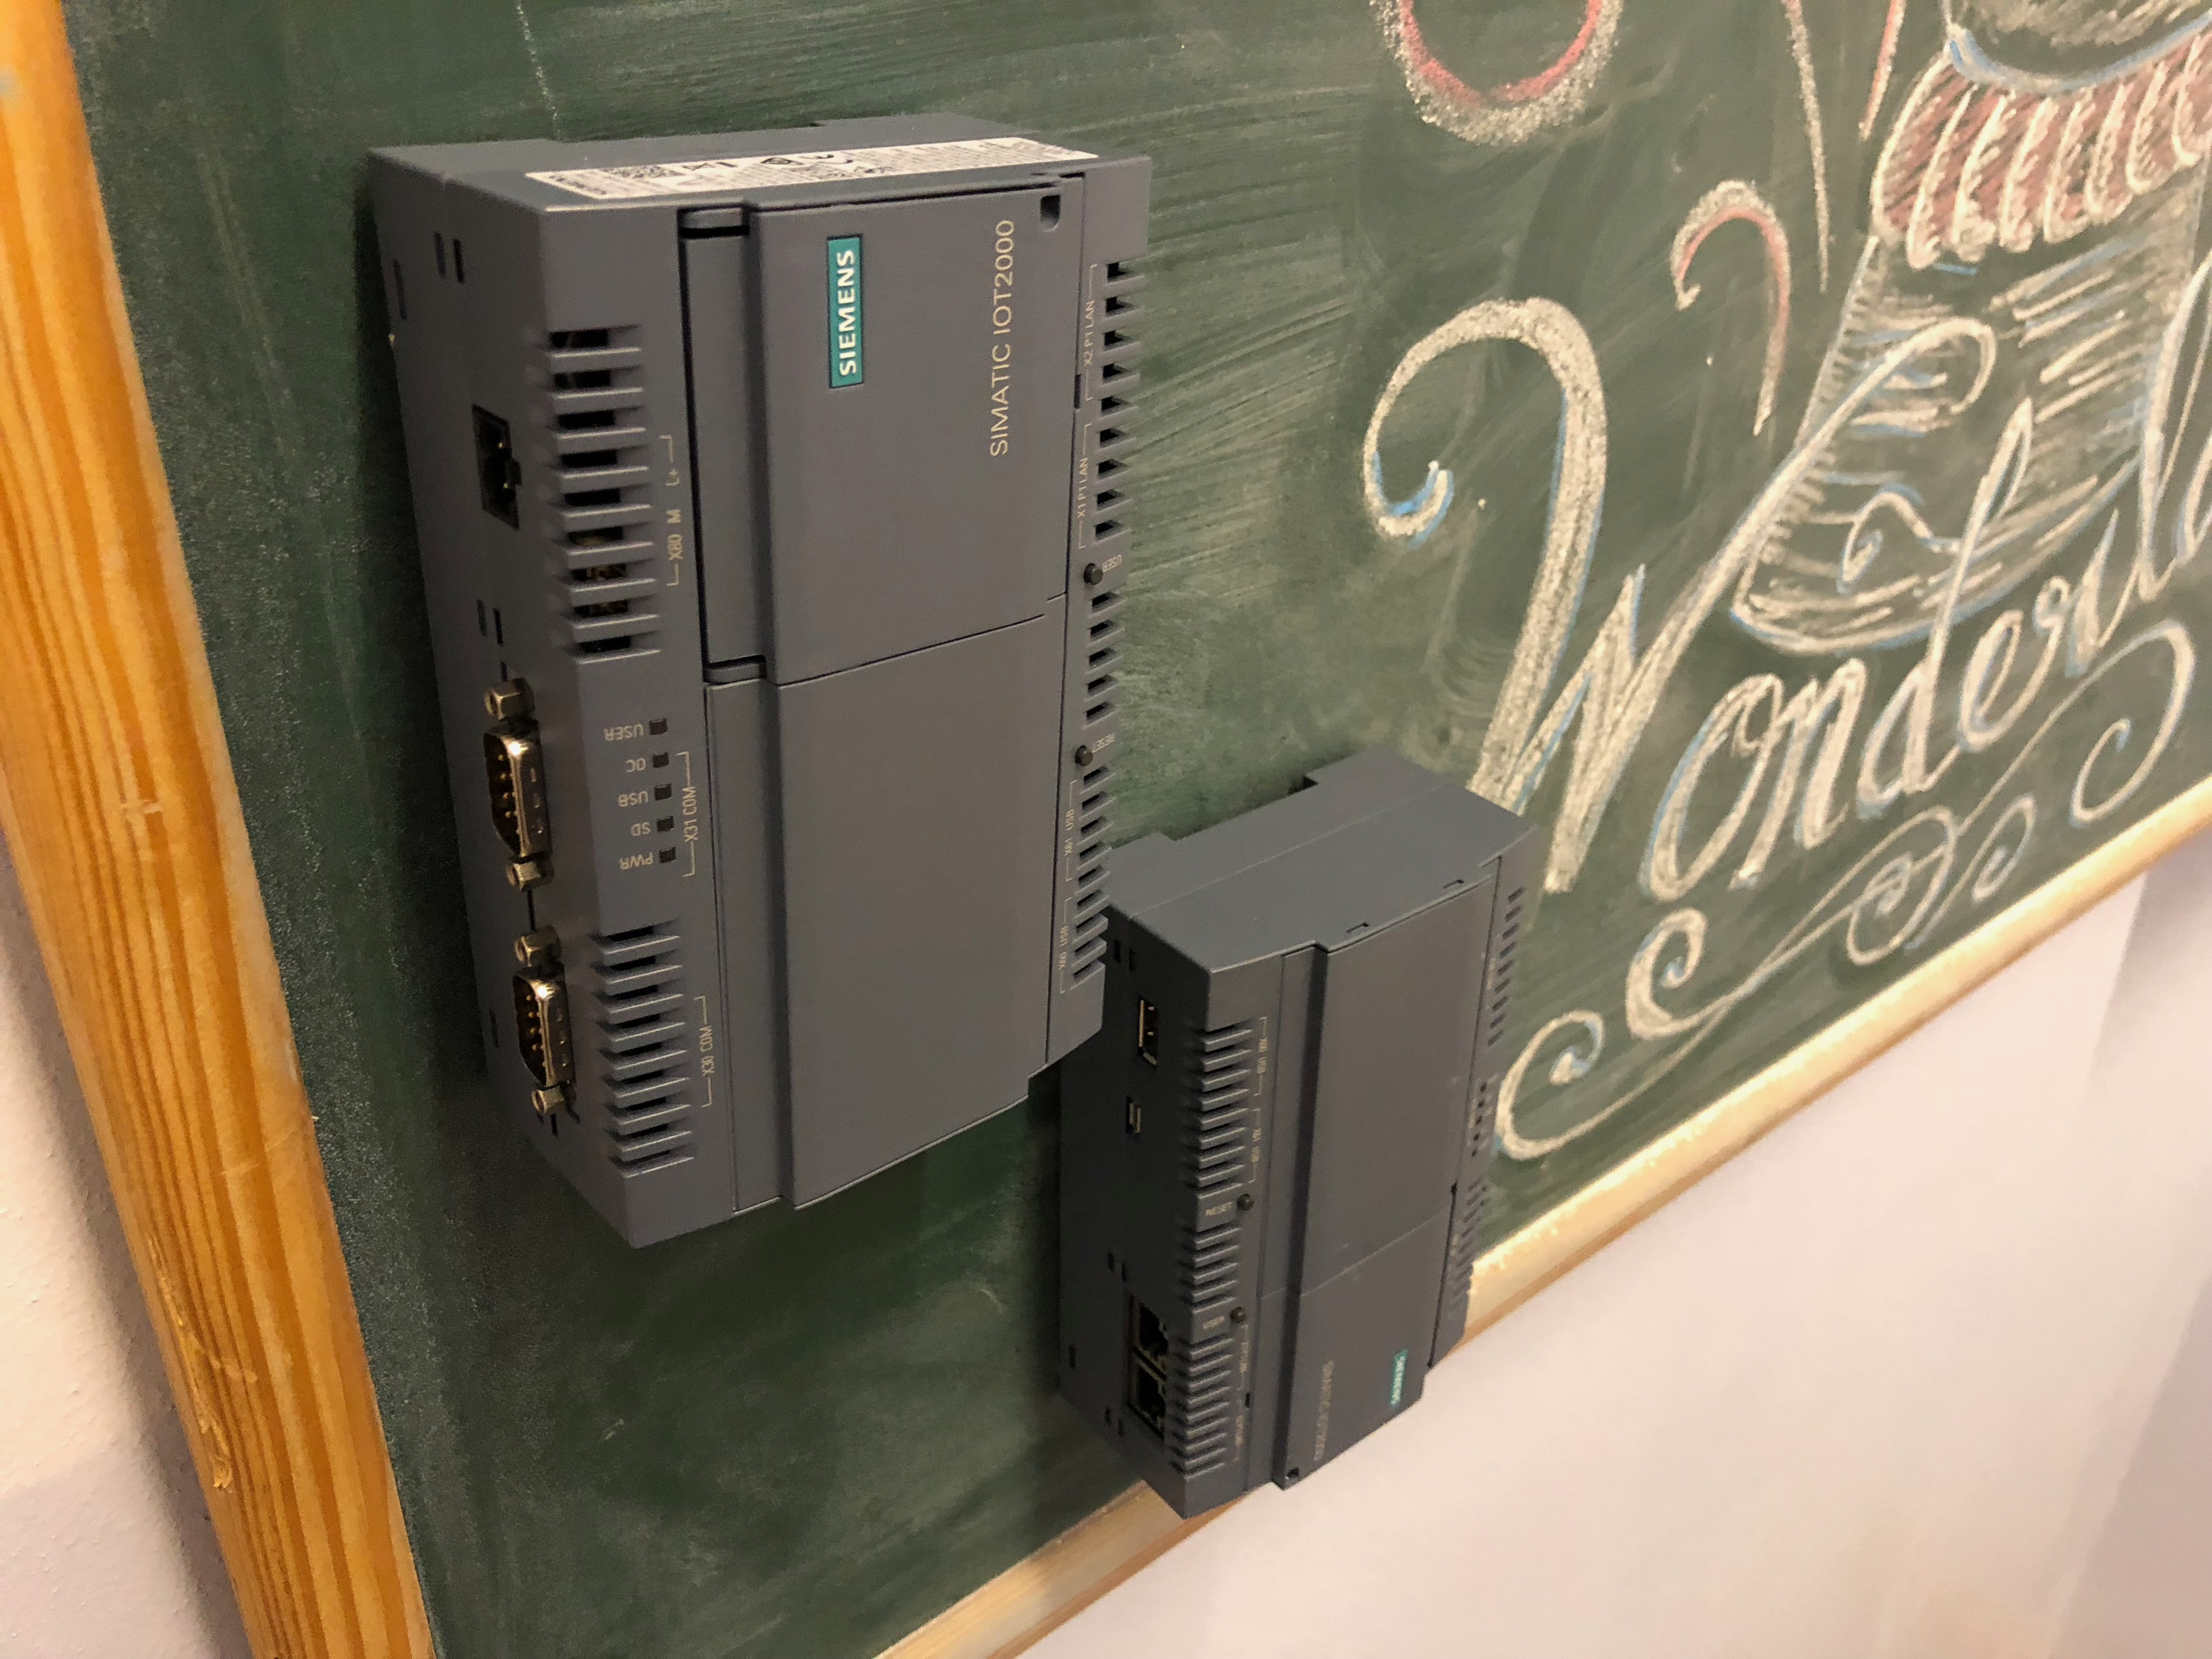device: (368, 112, 1151, 1251), (1059, 746, 1538, 1520)
